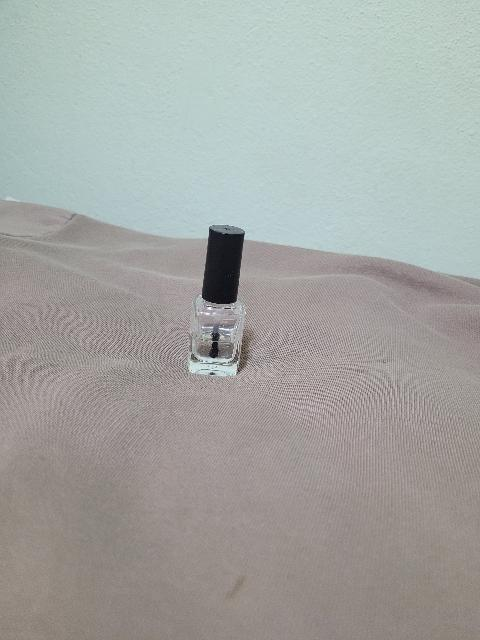Cam: (188, 303, 248, 383)
Plastik: (203, 217, 244, 307)
